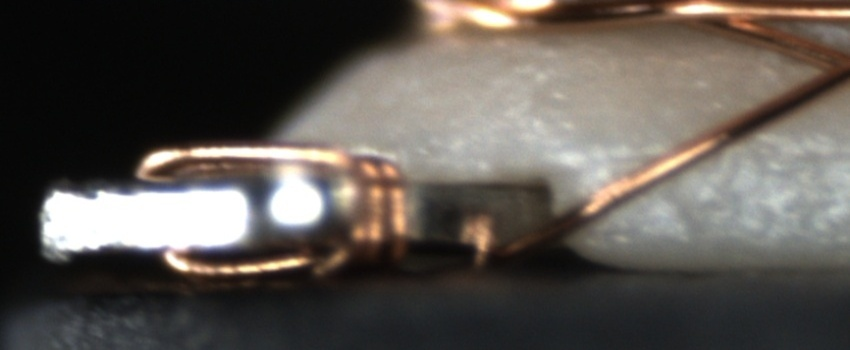CL: (803, 35, 850, 92)
DL: (571, 129, 849, 190)
TE: (128, 134, 408, 287)
